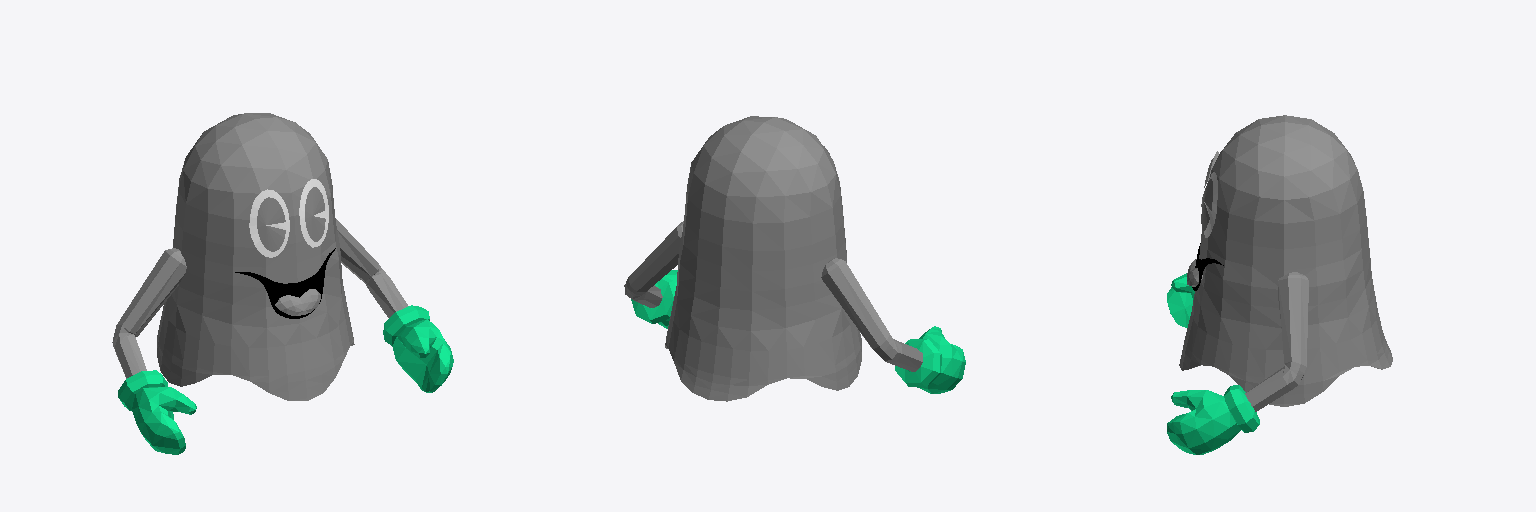
Rendered from Inky.obj.
The picture shows the model from 3 angles: view 1: azimuth 30°, elevation 25°; view 2: azimuth 150°, elevation 25°; view 3: azimuth 270°, elevation 25°; orthographic projection.
Visible parts, largest first — view 1: inky; view 2: inky; view 3: inky.
Boxes of the visible parts, x1,y1,x2,y2 form: inky: [112, 113, 453, 454]; inky: [624, 116, 965, 401]; inky: [1167, 115, 1392, 454].
Bounding box in the file's own units: 9.09 × 7.58 × 5.78.